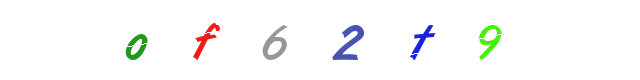2: (280, 0, 360, 80)
6: (252, 0, 332, 80)
9: (449, 0, 529, 80)
F: (165, 0, 245, 80)
O: (96, 0, 176, 80)
T: (336, 0, 416, 80)
